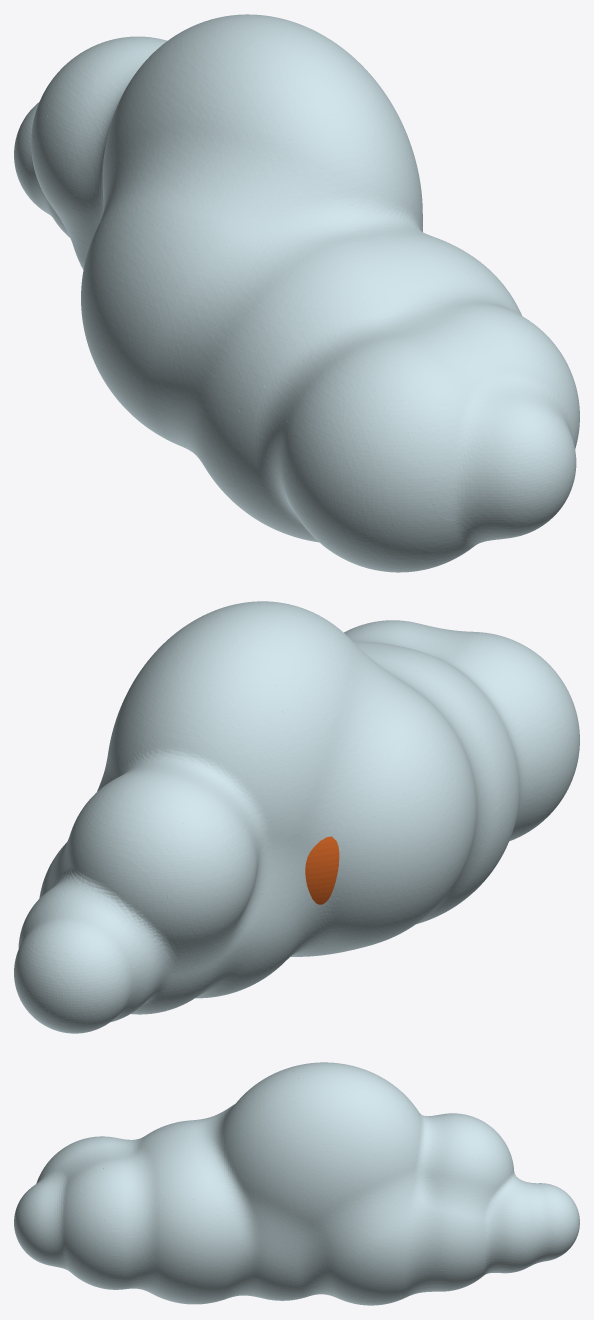
File: cloud.glb
3 views of the same model, one above another, from view 1: azimuth 30°, elevation 25°; view 2: azimuth 150°, elevation 25°; view 3: azimuth 270°, elevation 25° (orthographic). The views are drawn at different scales.
Parts seen in each view (by area): view 1: 云; view 2: 云, 太阳; view 3: 云.
Boxes of the visible parts, box(x1,y1,x2,y2) form: 云: box(14, 14, 579, 572); 云: box(14, 601, 579, 1033); 太阳: box(305, 836, 339, 904); 云: box(14, 1062, 579, 1305).
Bounding box in the file's own units: 4.51 × 5.24 × 11.42.
